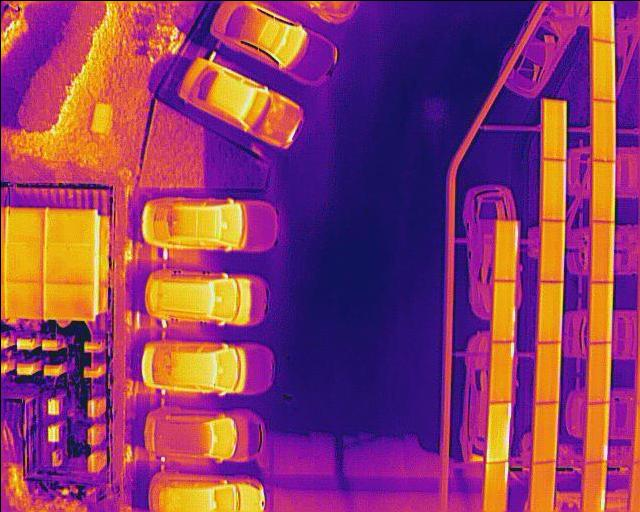No-Anomaly: (585, 341, 611, 406), (534, 341, 560, 404), (537, 277, 562, 342), (540, 158, 565, 223), (532, 400, 558, 461), (539, 219, 564, 282), (588, 279, 612, 342), (590, 160, 614, 221), (542, 96, 565, 159), (592, 95, 614, 160), (590, 220, 613, 282), (592, 40, 612, 101), (532, 461, 554, 512)
Unclassified: (484, 400, 511, 460), (495, 218, 520, 281), (489, 338, 513, 403), (490, 279, 515, 340), (583, 399, 607, 462), (582, 460, 606, 512), (484, 461, 507, 512)
